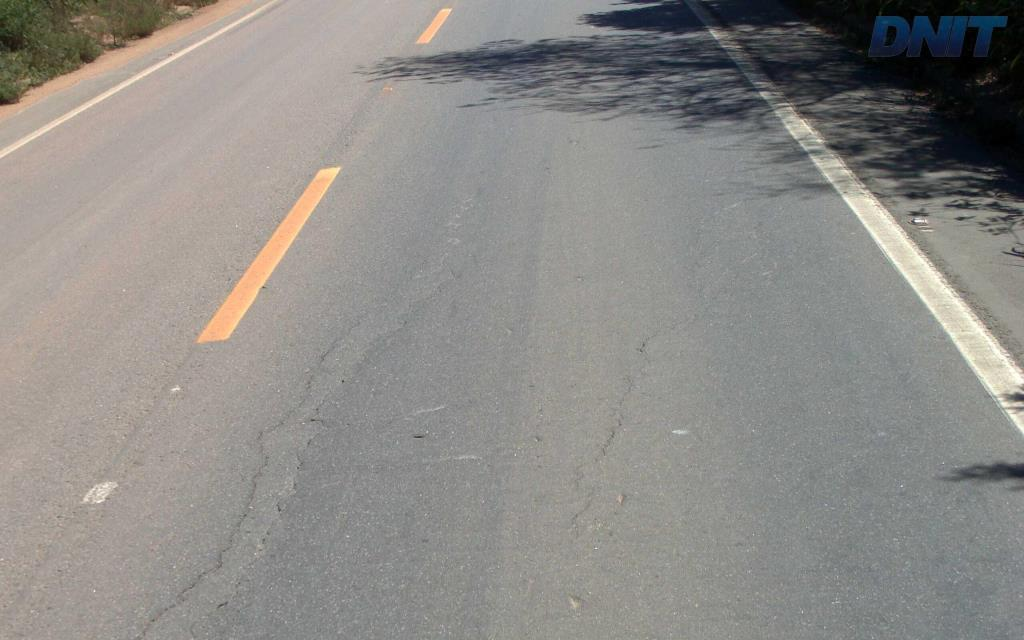pothole: (128, 257, 463, 638)
